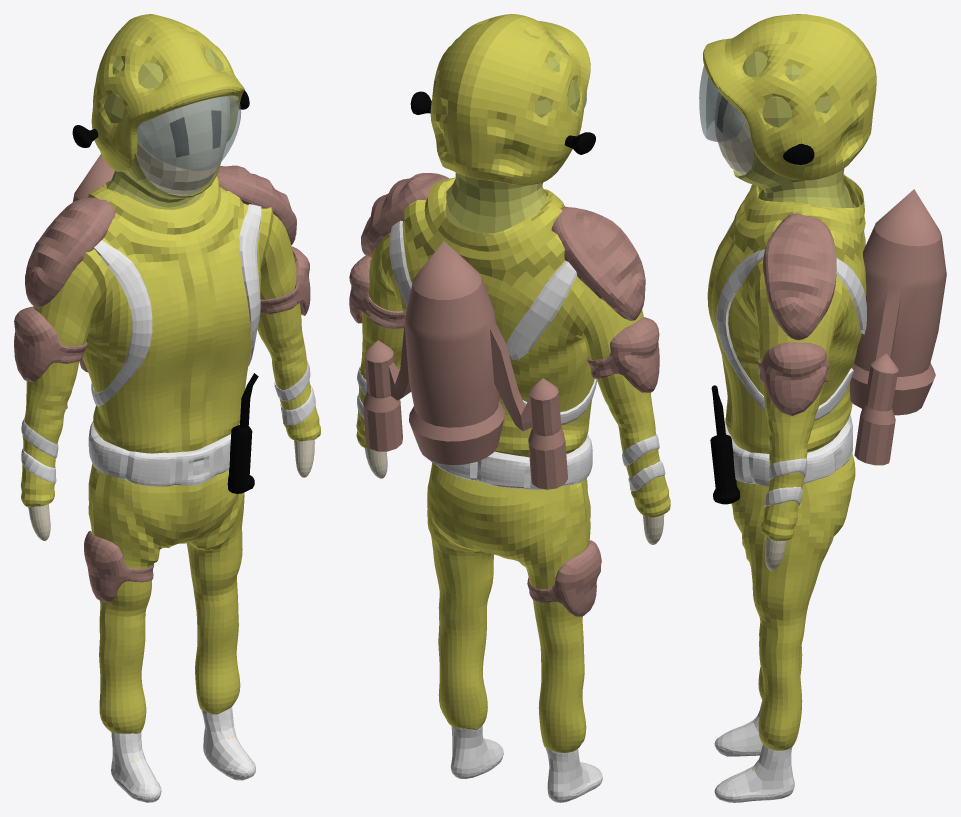
The model's file is RepairModel.fbx.
3 views of the same model, side by side, from view 1: azimuth 30°, elevation 25°; view 2: azimuth 150°, elevation 25°; view 3: azimuth 270°, elevation 25° (orthographic). The views are drawn at different scales.
Visible parts, largest first — view 1: polySurface2; view 2: polySurface2; view 3: polySurface2.
Part boxes in pixels (x1,y1,x2,y2): polySurface2: [14, 14, 320, 802]; polySurface2: [349, 14, 670, 802]; polySurface2: [699, 14, 946, 802].
Size of the model in its own units: 105 by 252 by 74.6.
